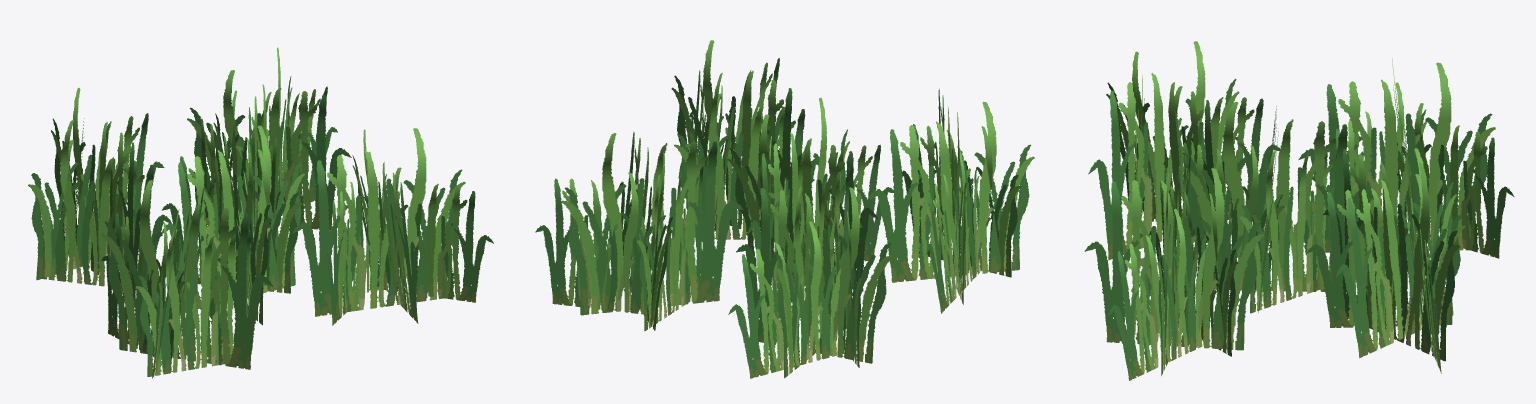
File: LargeGrassclump.fbx
3 renders of one model, left to right at view 1: azimuth 30°, elevation 25°; view 2: azimuth 150°, elevation 25°; view 3: azimuth 270°, elevation 25°, orthographic. The views are drawn at different scales.
Visible parts, largest first — view 1: LargeClump; view 2: LargeClump; view 3: LargeClump.
Boxes of the visible parts, x1,y1,x2,y2 form: LargeClump: (28, 47, 493, 378); LargeClump: (535, 40, 1034, 378); LargeClump: (1084, 41, 1514, 380).
Bounding box in the file's own units: 17.18 × 8.45 × 17.21.
Materials: 1 (1 with a texture image).
